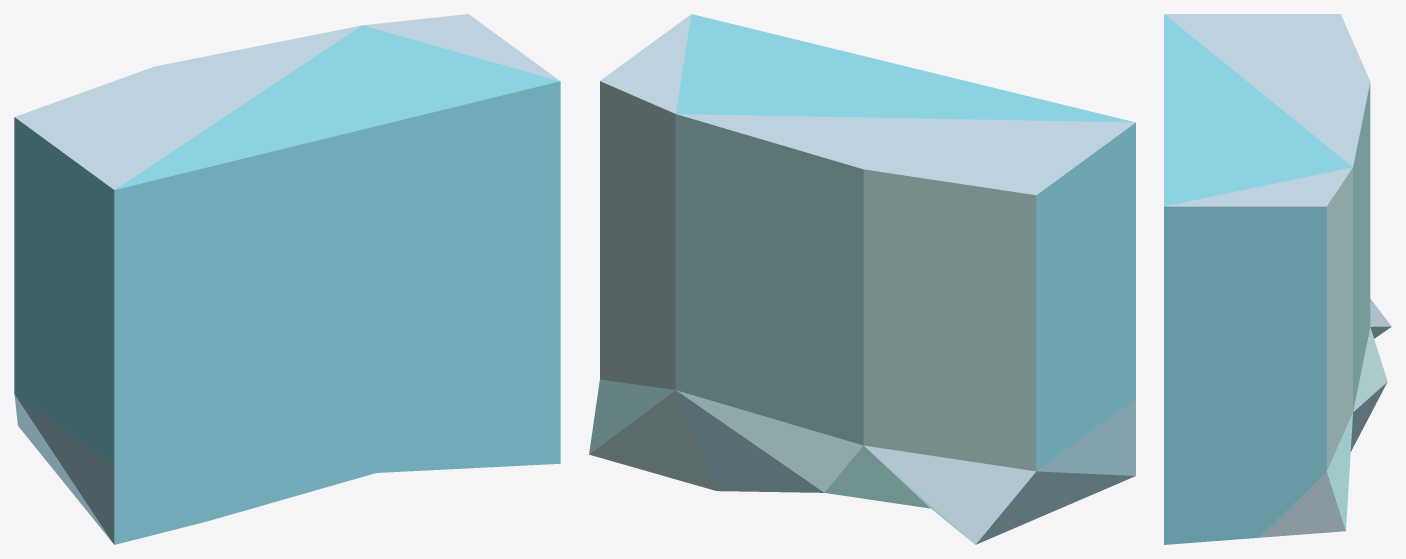
File: guard_winter_2.fbx
3 views of the same model, side by side, from view 1: azimuth 30°, elevation 25°; view 2: azimuth 150°, elevation 25°; view 3: azimuth 270°, elevation 25° (orthographic). The views are drawn at different scales.
Visible parts, largest first — view 1: Cube.008; view 2: Cube.008; view 3: Cube.008.
Boxes of the visible parts, x1,y1,x2,y2 form: Cube.008: [14, 14, 560, 544]; Cube.008: [589, 14, 1135, 544]; Cube.008: [1164, 14, 1391, 544].
Size of the model in its own units: 1036 by 849 by 518.
